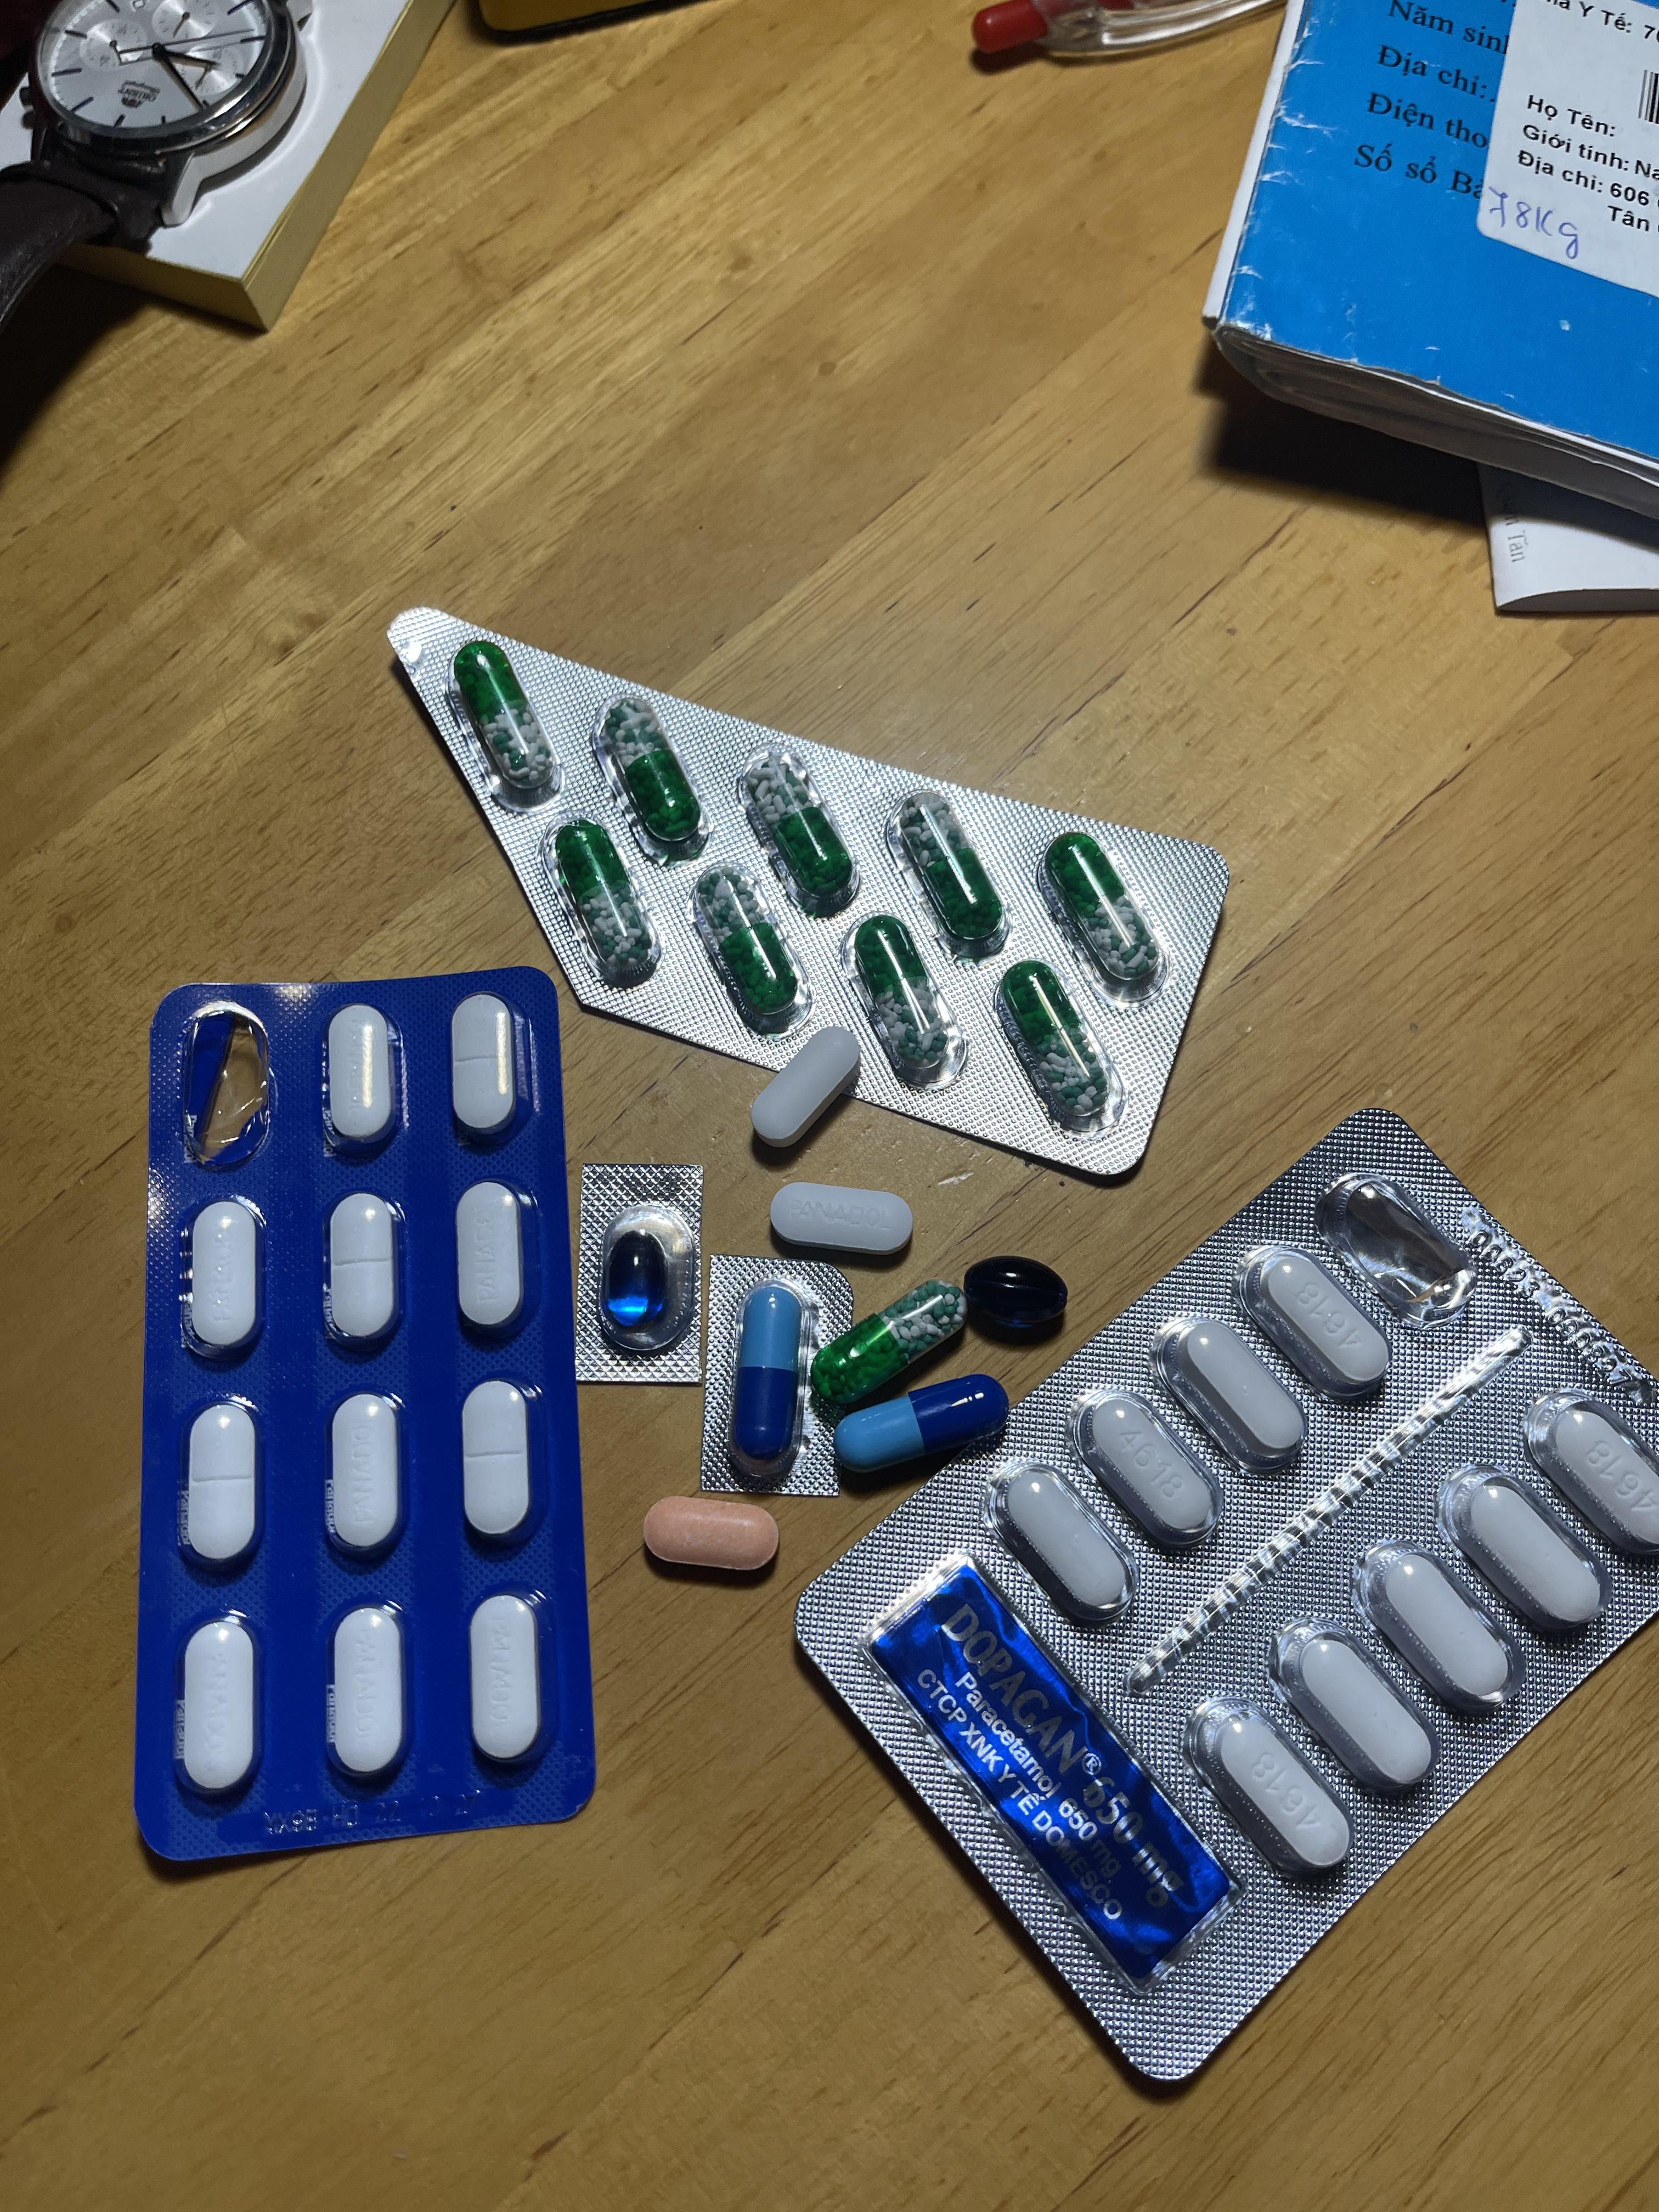Lincomyxin_500mg: (962, 1254, 1068, 1338), (601, 1231, 669, 1327)
Loratadine_10mg: (641, 1496, 774, 1571)
Paracetamol_350mg: (179, 1618, 256, 1796), (331, 1608, 406, 1780), (469, 1595, 542, 1766), (185, 1400, 260, 1566), (328, 1393, 403, 1555), (464, 1379, 535, 1541), (326, 1191, 399, 1346), (457, 1181, 528, 1336), (190, 1200, 261, 1355), (769, 1183, 908, 1259), (326, 1005, 397, 1144), (451, 996, 519, 1134)
Paracetamol_500mg: (1232, 1242, 1387, 1402), (1152, 1313, 1302, 1475), (1077, 1392, 1220, 1555), (1527, 1392, 1659, 1566), (1371, 1547, 1509, 1700), (1459, 1475, 1596, 1623), (1211, 1714, 1340, 1871), (1293, 1632, 1427, 1780), (1002, 1463, 1124, 1613), (749, 1035, 861, 1143)
Paracetamol_650mg: (810, 1278, 965, 1420), (999, 958, 1121, 1123), (887, 789, 1007, 953), (849, 913, 958, 1080), (1044, 833, 1159, 991), (551, 820, 660, 982), (451, 643, 559, 805), (741, 747, 847, 900), (697, 869, 795, 1022), (606, 704, 701, 840)
pill: (840, 1374, 1006, 1486), (728, 1282, 802, 1486)
